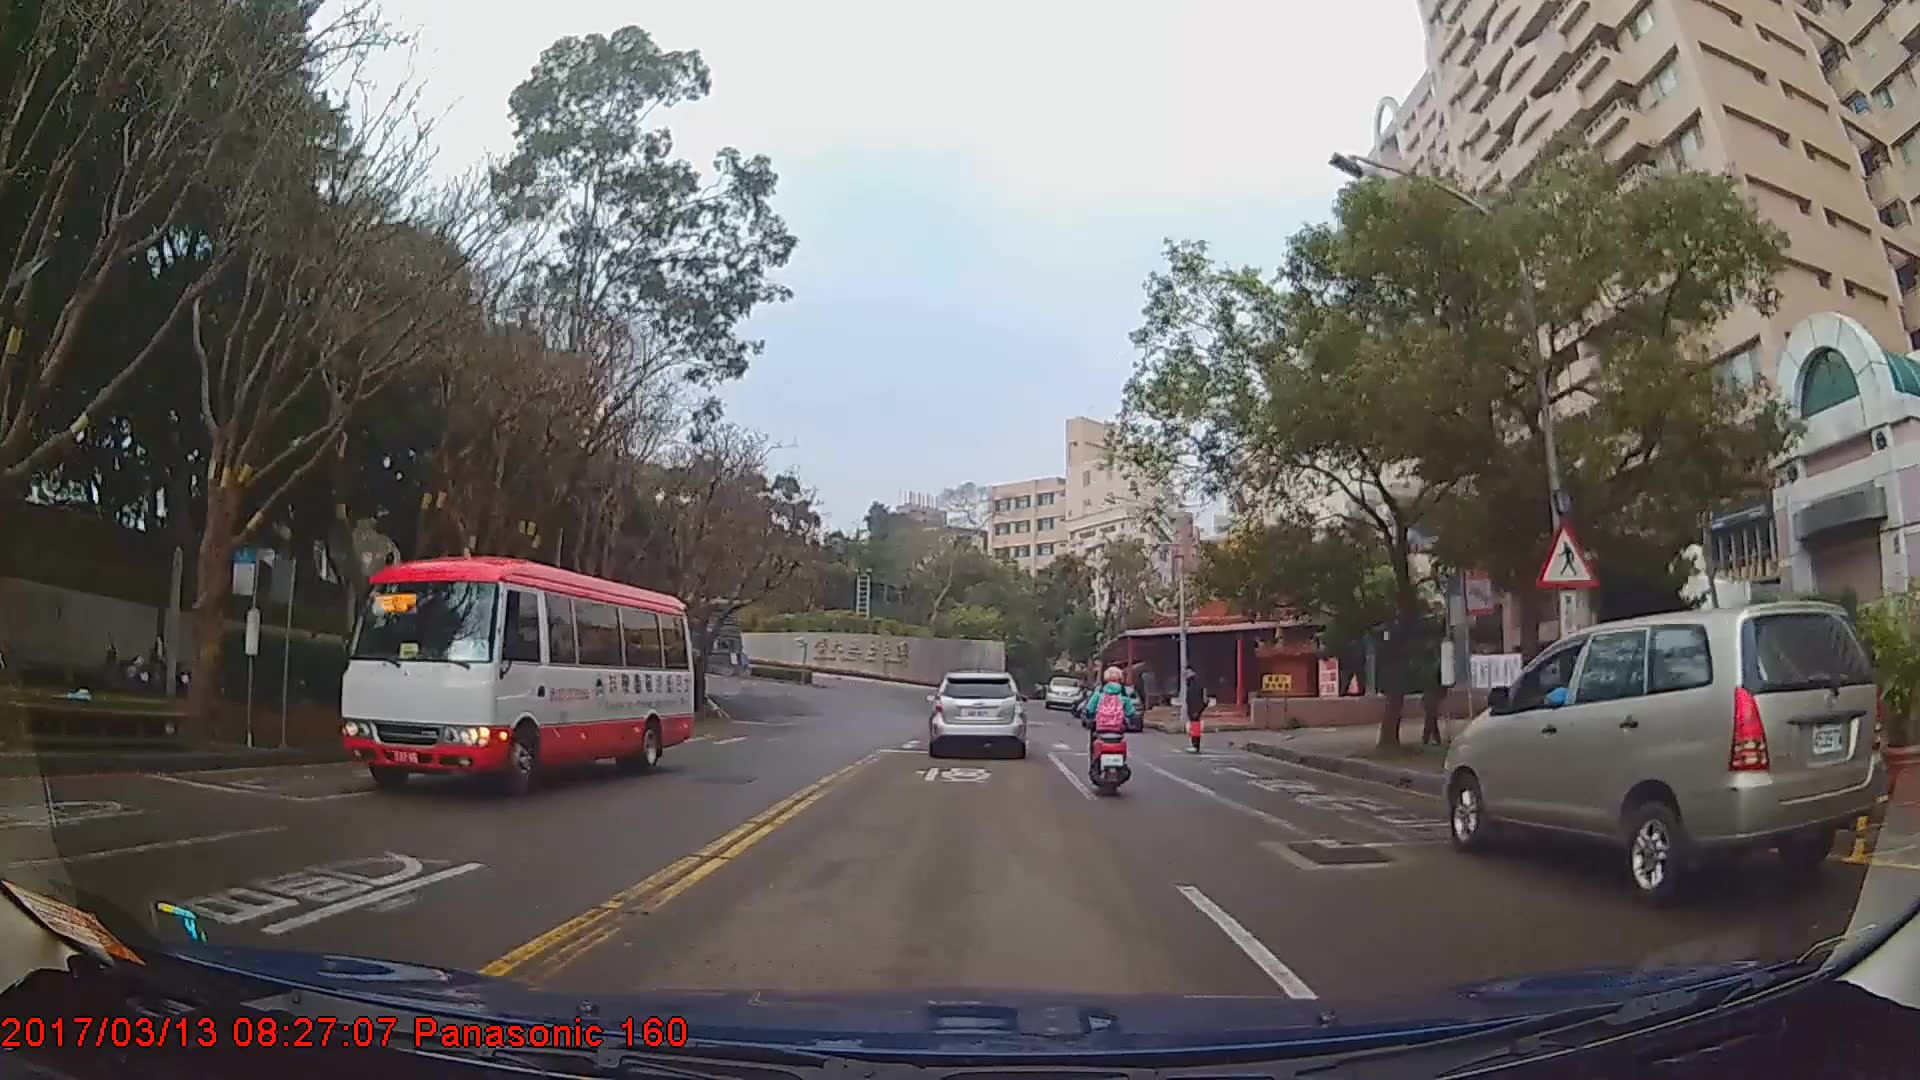pedestrian: (1181, 667, 1210, 756)
rider: (1079, 667, 1137, 797)
vehicle: (1442, 600, 1881, 908), (338, 556, 695, 799), (924, 670, 1027, 757), (1045, 675, 1084, 709)
